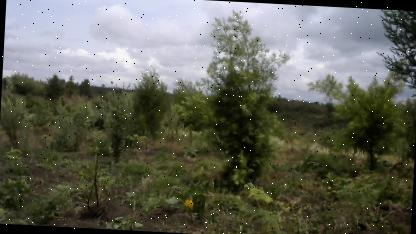tree: (192, 4, 294, 195)
